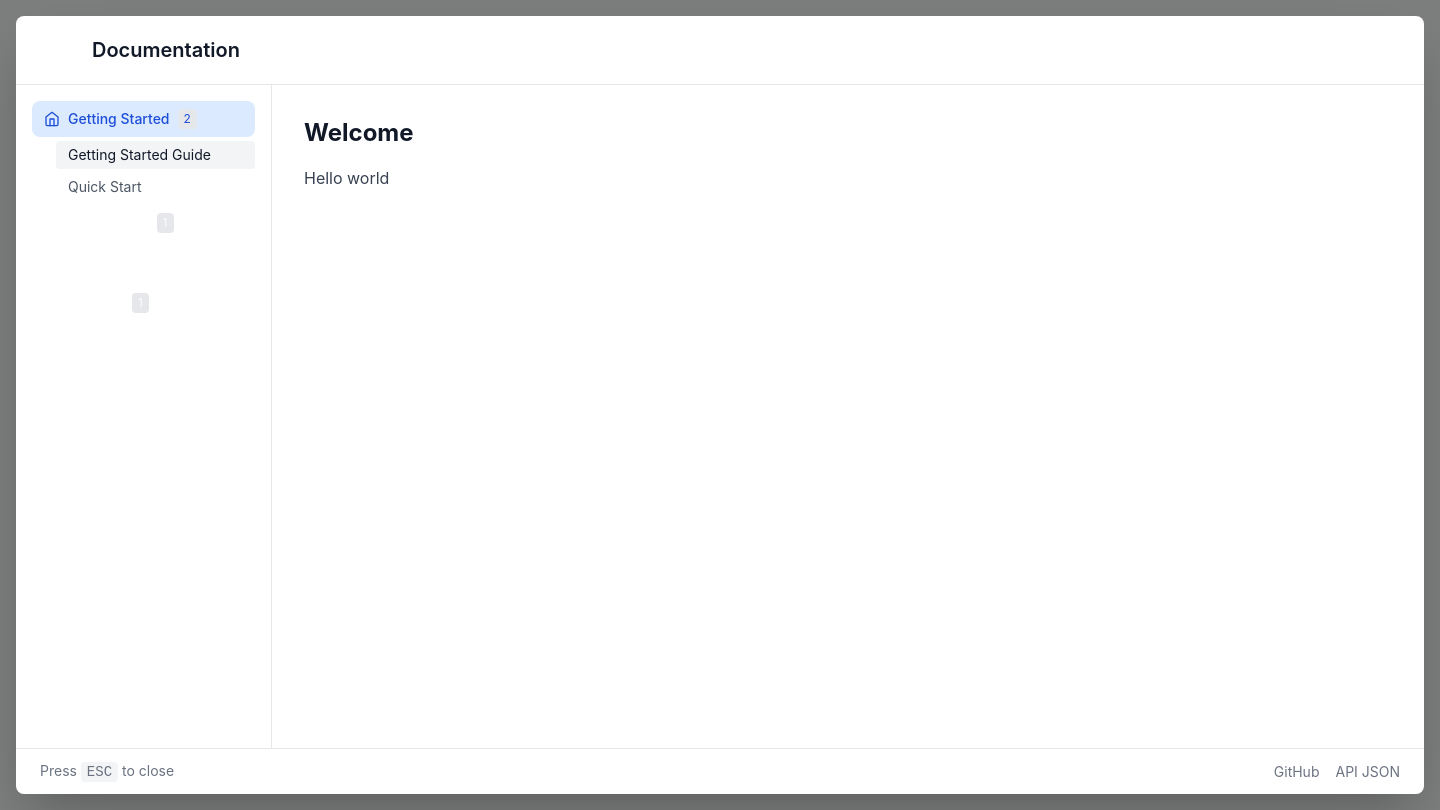
it: DocumentationViewer › docContent › should switch doc content when sub-item is clicked
The image size is (1440, 810).
Click the button "Quick Start" at coordinates (156, 187), box x1=56 y1=173 x2=255 y2=201
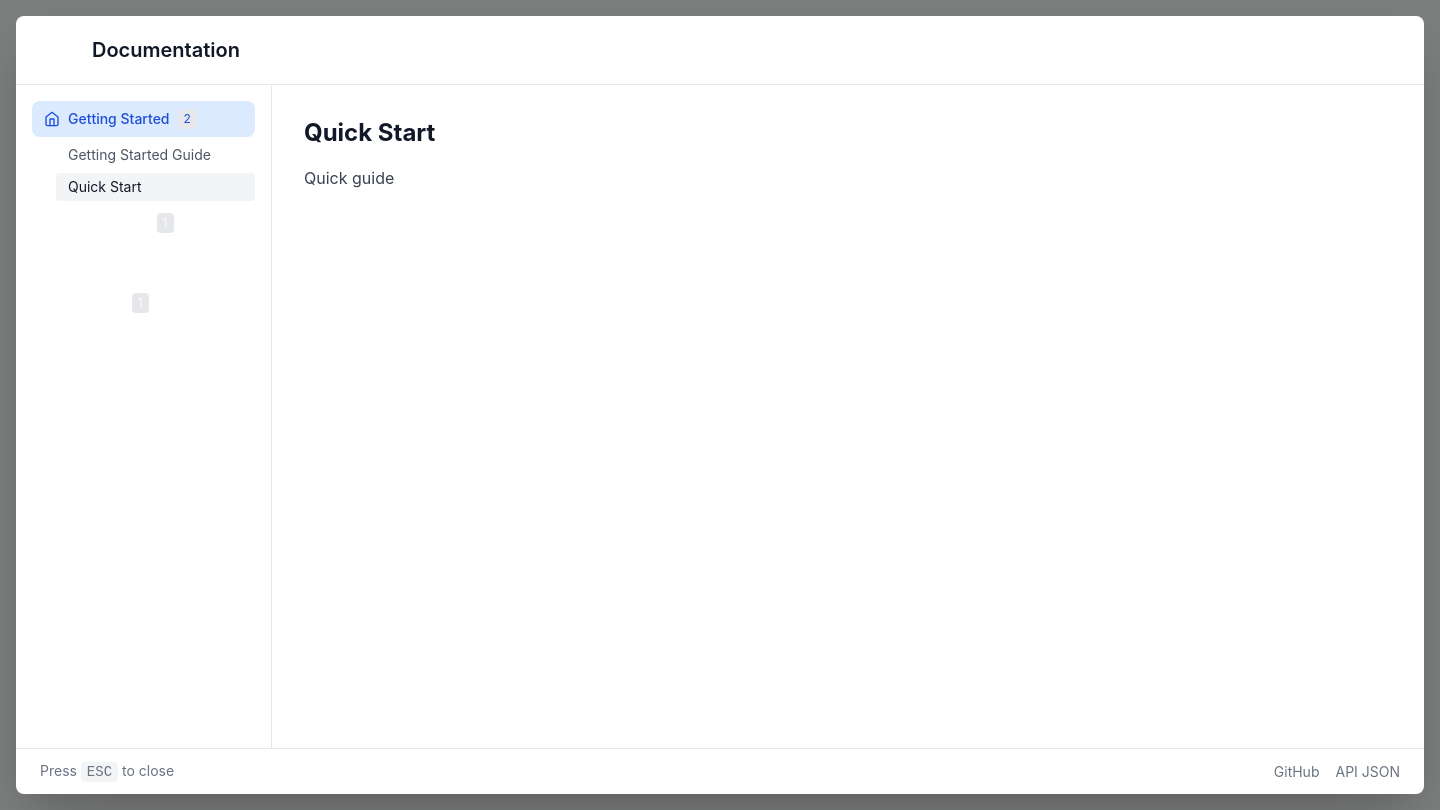
Result: the text "Quick guide" is shown at x1=304 y1=168 x2=394 y2=188
